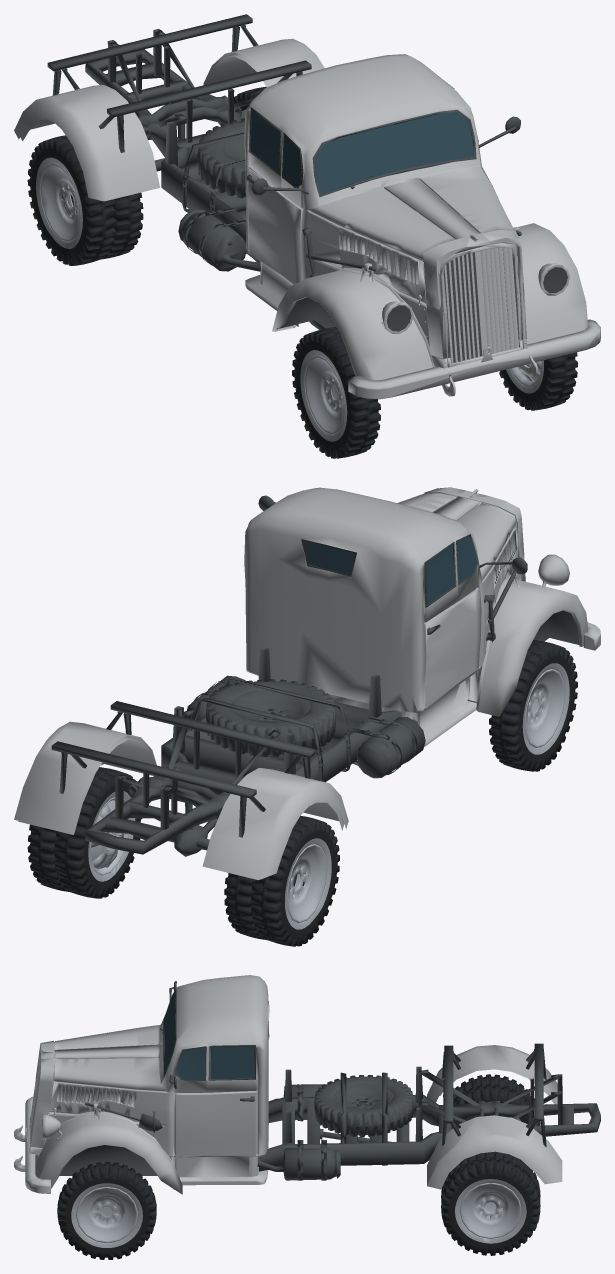
Rendered from behemoth.glb.
3 views of the same model, one above another, from view 1: azimuth 30°, elevation 25°; view 2: azimuth 150°, elevation 25°; view 3: azimuth 270°, elevation 25° (orthographic). The views are drawn at different scales.
Visible parts, largest first — view 1: paint, trim, glass, rear right tire, front right tire, front right alloy, rear right alloy, front left tire, front left alloy; view 2: paint, trim, rear right tire, rear left tire, front right tire, front right alloy, rear right alloy, glass, rear left alloy; view 3: paint, trim, rear left tire, front left tire, front left alloy, rear left alloy, glass, rear right tire.
Boxes of the visible parts, left/top/right/bottom form: paint: left=14, top=38, right=600, bottom=399; trim: left=47, top=14, right=567, bottom=362; glass: left=250, top=110, right=474, bottom=194; rear right tire: left=27, top=135, right=143, bottom=265; front right tire: left=292, top=327, right=380, bottom=458; front right alloy: left=300, top=350, right=347, bottom=441; rear right alloy: left=36, top=157, right=82, bottom=248; front left tire: left=499, top=352, right=577, bottom=410; front left alloy: left=506, top=360, right=543, bottom=393; paint: left=14, top=487, right=600, bottom=879; trim: left=51, top=495, right=583, bottom=856; rear right tire: left=224, top=815, right=339, bottom=946; rear left tire: left=27, top=767, right=142, bottom=898; front right tire: left=489, top=640, right=577, bottom=771; front right alloy: left=522, top=663, right=569, bottom=754; rear right alloy: left=285, top=838, right=331, bottom=929; glass: left=303, top=536, right=477, bottom=604; rear left alloy: left=88, top=791, right=135, bottom=881; paint: left=14, top=975, right=562, bottom=1194; trim: left=35, top=981, right=600, bottom=1189; rear left tire: left=441, top=1151, right=540, bottom=1255; front left tire: left=57, top=1162, right=156, bottom=1259; front left alloy: left=71, top=1183, right=142, bottom=1247; rear left alloy: left=455, top=1179, right=526, bottom=1243; glass: left=164, top=991, right=268, bottom=1079; rear right tire: left=451, top=1074, right=540, bottom=1128.
Bounding box in the file's own units: 2.02 × 2.1 × 5.
